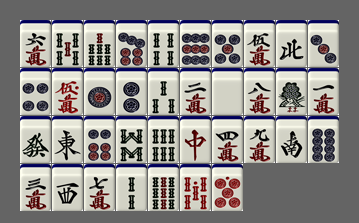0m: (52, 68, 83, 115)
0p: (212, 164, 243, 211)
0s: (180, 164, 211, 211)
1m: (308, 68, 339, 115)
1p: (84, 68, 115, 115)
1s: (276, 68, 307, 115)
1z: (52, 116, 83, 163)
2m: (180, 68, 211, 115)
2p: (116, 68, 147, 115)
2s: (116, 164, 147, 211)
2z: (276, 116, 307, 163)
3m: (20, 164, 51, 211)
3p: (308, 20, 339, 67)
3s: (148, 68, 179, 115)
3z: (52, 164, 83, 211)
4m: (212, 116, 243, 163)
4p: (20, 68, 51, 115)
4s: (148, 20, 179, 67)
4z: (276, 20, 307, 67)
5m: (244, 20, 275, 67)
5p: (212, 20, 243, 67)
5s: (52, 20, 83, 67)
5z: (212, 68, 243, 115)
6m: (20, 20, 51, 67)
6p: (84, 116, 115, 163)
6s: (148, 116, 179, 163)
6z: (20, 116, 51, 163)
7m: (84, 164, 115, 211)
7p: (116, 20, 147, 67)
7s: (84, 20, 115, 67)
7z: (180, 116, 211, 163)
8m: (244, 68, 275, 115)
8p: (308, 116, 339, 163)
8s: (116, 116, 147, 163)
9m: (244, 116, 275, 163)
9p: (180, 20, 211, 67)
9s: (148, 164, 179, 211)
